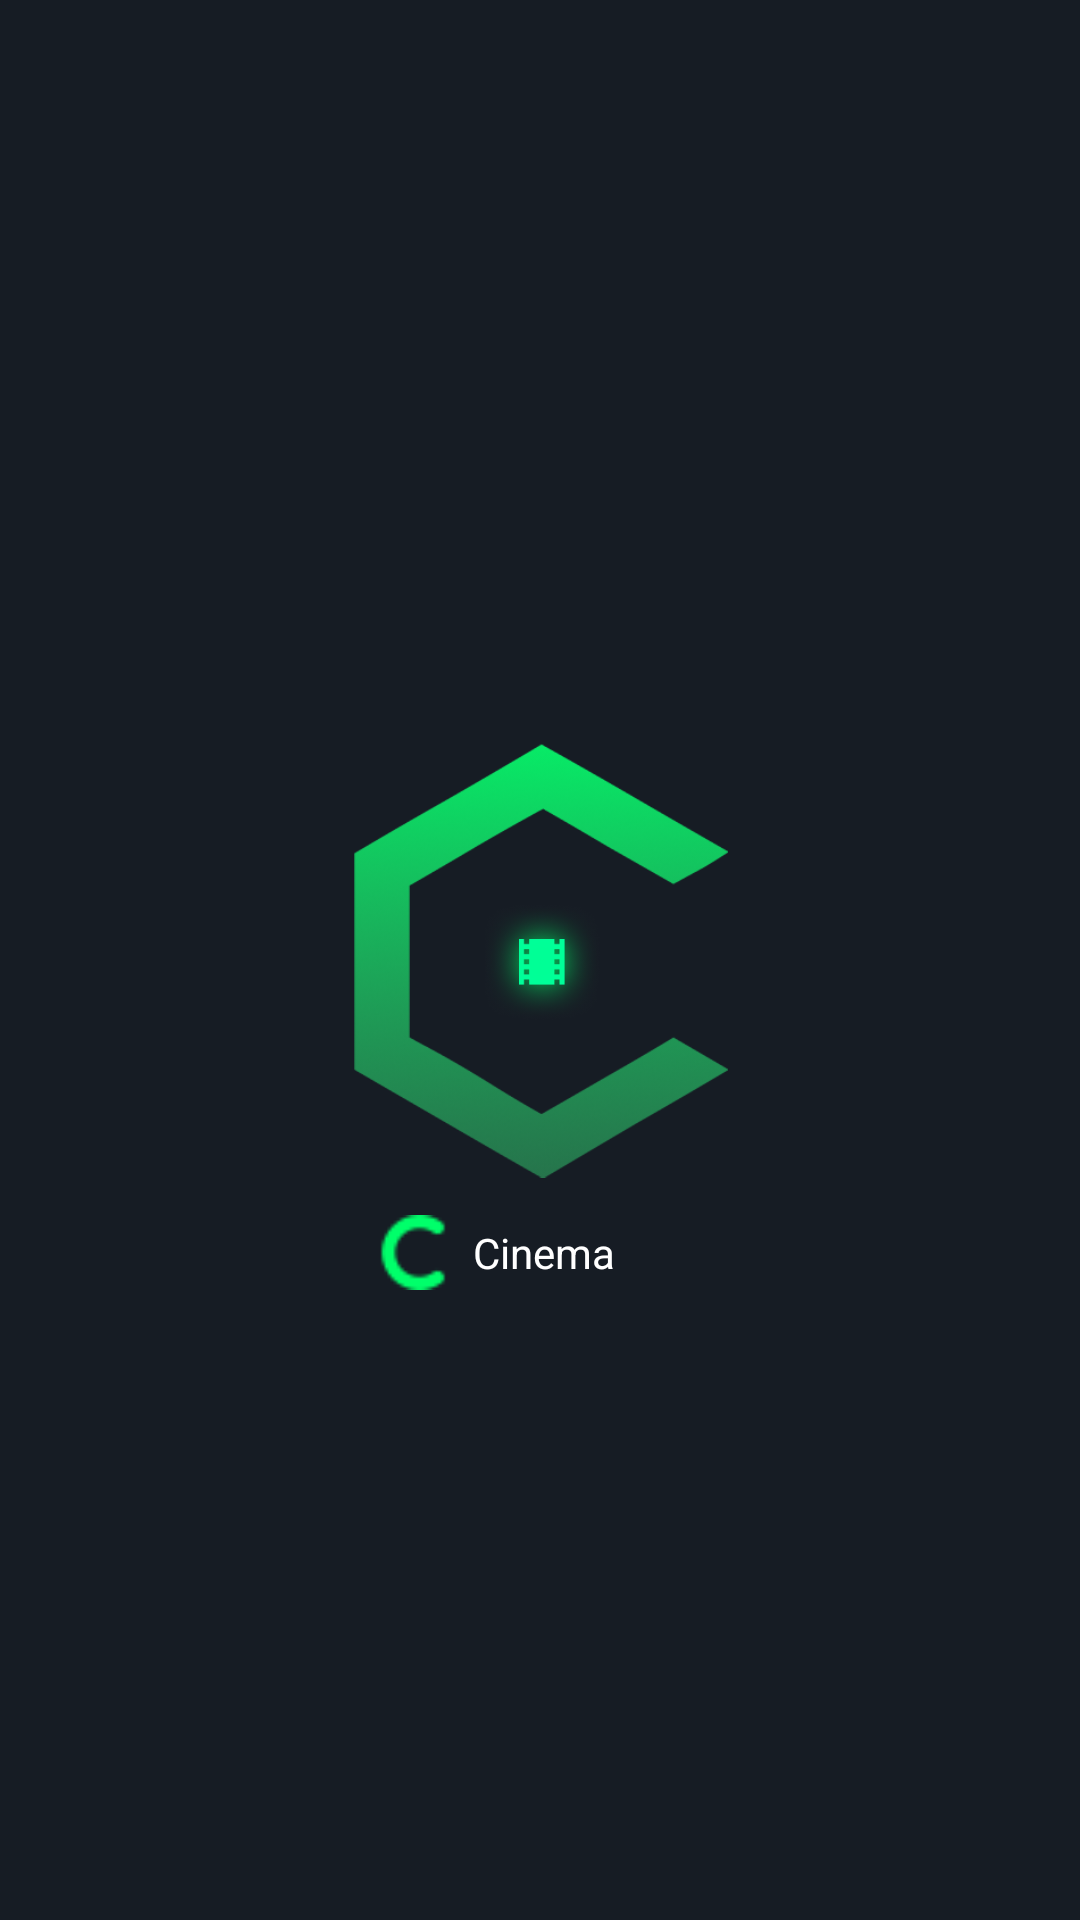

Icons on this 1080w x 1920h Android screen, each with the point to tap as (x,y):
video: (542,962)
